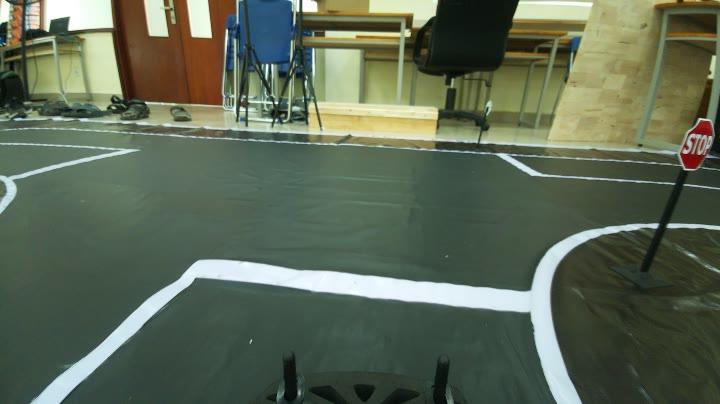stop: (671, 115, 718, 171)
